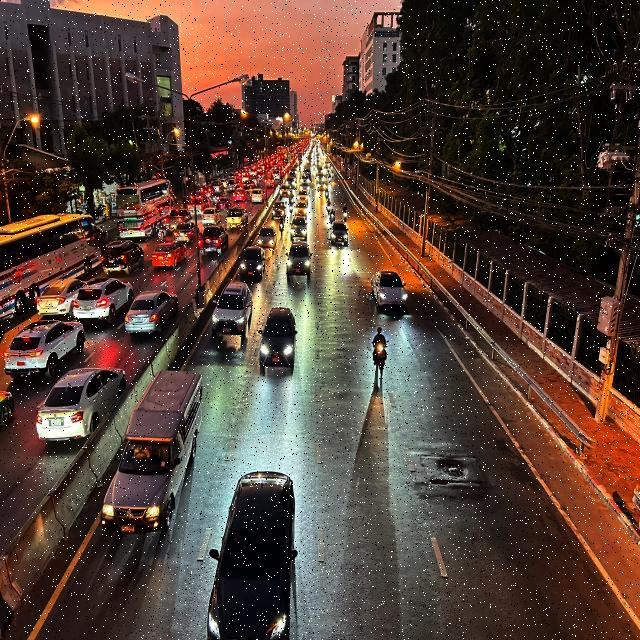bike: (369, 322, 391, 385)
truck: (98, 364, 209, 544)
